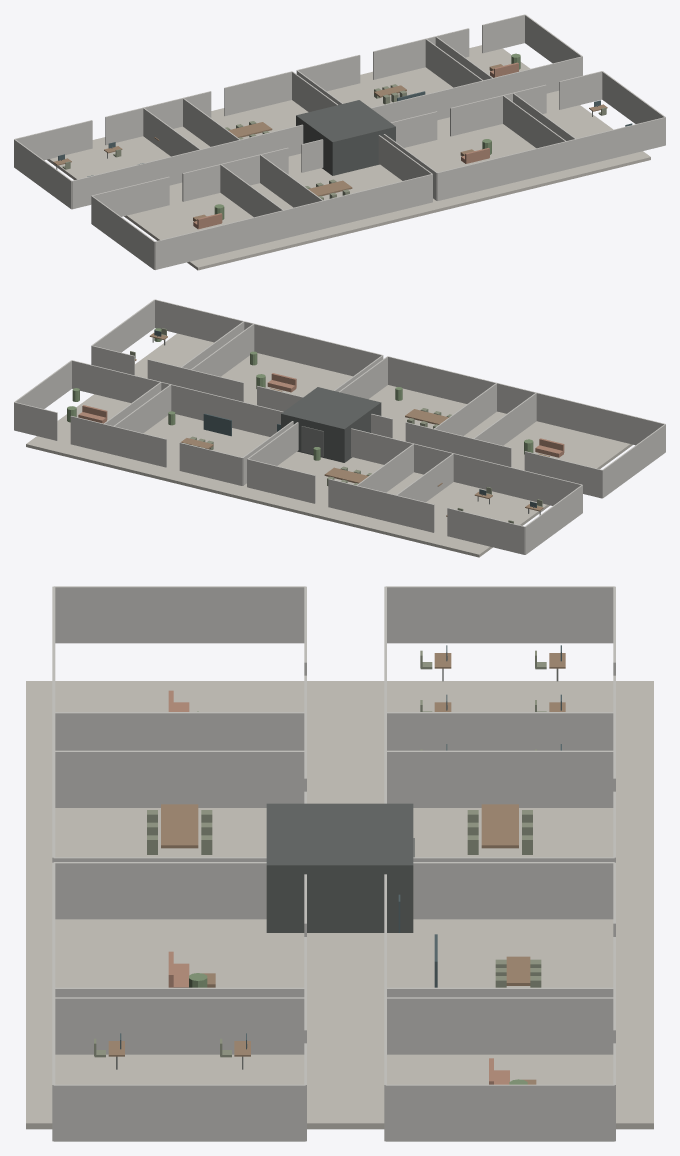
The picture shows the model from 3 angles, top to bottom: view 1: azimuth 30°, elevation 25°; view 2: azimuth 150°, elevation 25°; view 3: azimuth 270°, elevation 25°; orthographic projection. The views are drawn at different scales.
Visible parts, largest first — view 1: G_slab, client_lounge_north, G_core, collaboration_north, reception_security_north, meeting_rooms_north, quiet_focus_north, demo_zone_north, boardroom_south_r, cafe_informal_north, client_lounge_west, reception_security_south_l (+31 smaller); view 2: G_slab, G_core, reception_security_north, meeting_rooms_north, client_lounge_north, collaboration_north, demo_zone_north, reception_security_south_l, reception_security_south_r, cafe_informal_north, quiet_focus_north, boardroom_south_r (+31 smaller); view 3: G_slab, G_core, quiet_focus_east, client_lounge_west, client_lounge_east, collaboration_east, cafe_informal_east, demo_zone_east, reception_security_west, reception_security_east, collaboration_west, demo_zone_west (+8 smaller).
Part boxes in pixels (left/top/right/bottom): G_slab: left=47, top=45, right=650, bottom=270; client_lounge_north: left=154, top=200, right=323, bottom=269; G_core: left=296, top=100, right=395, bottom=175; collaboration_north: left=437, top=139, right=575, bottom=200; reception_security_north: left=72, top=140, right=240, bottom=209; meeting_rooms_north: left=284, top=174, right=432, bottom=237; quiet_focus_north: left=566, top=117, right=665, bottom=169; demo_zone_north: left=371, top=78, right=493, bottom=122; boardroom_south_r: left=224, top=71, right=291, bottom=115; cafe_informal_north: left=483, top=56, right=582, bottom=97; client_lounge_west: left=91, top=195, right=154, bottom=269; reception_security_south_l: left=14, top=120, right=92, bottom=160; G_slab: left=26, top=333, right=632, bottom=557; G_core: left=281, top=387, right=381, bottom=462; reception_security_north: left=414, top=444, right=582, bottom=505; meeting_rooms_north: left=388, top=356, right=536, bottom=413; client_lounge_north: left=497, top=383, right=664, bottom=445; collaboration_north: left=244, top=321, right=382, bottom=376; demo_zone_north: left=161, top=382, right=283, bottom=436; reception_security_south_l: left=447, top=507, right=525, bottom=554; reception_security_south_r: left=356, top=485, right=434, bottom=532; cafe_informal_north: left=72, top=360, right=170, bottom=403; quiet_focus_north: left=155, top=299, right=249, bottom=342; boardroom_south_r: left=247, top=459, right=315, bottom=503; G_slab: left=26, top=681, right=653, bottom=1129; G_core: left=266, top=803, right=413, bottom=932; quiet_focus_east: left=53, top=1084, right=305, bottom=1141; client_lounge_west: left=54, top=586, right=305, bottom=643; client_lounge_east: left=53, top=750, right=305, bottom=807; collaboration_east: left=53, top=997, right=305, bottom=1054; cafe_informal_east: left=385, top=1084, right=614, bottom=1141; demo_zone_east: left=385, top=997, right=614, bottom=1054; reception_security_west: left=386, top=586, right=614, bottom=643; reception_security_east: left=385, top=750, right=614, bottom=807; collaboration_west: left=53, top=862, right=266, bottom=919; demo_zone_west: left=413, top=862, right=614, bottom=919.
Size of the model in its own units: 51.62 by 3.54 by 27.43.
